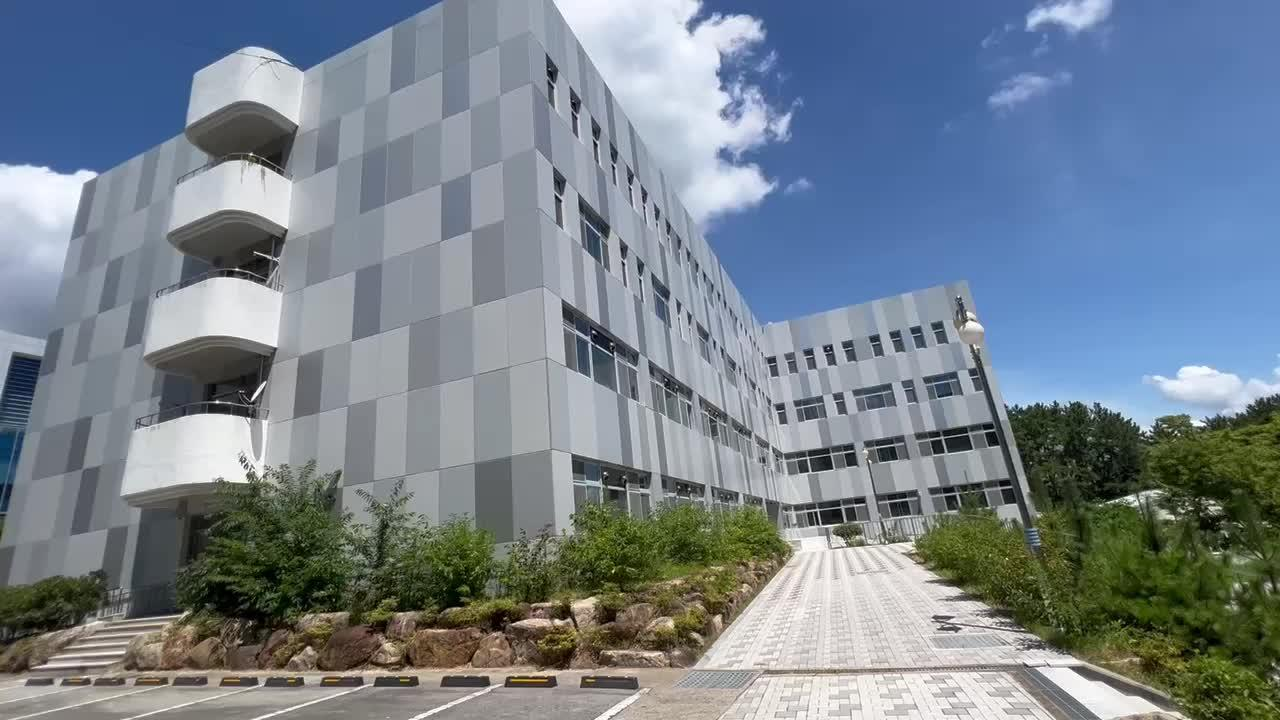building: (33, 56, 954, 526)
